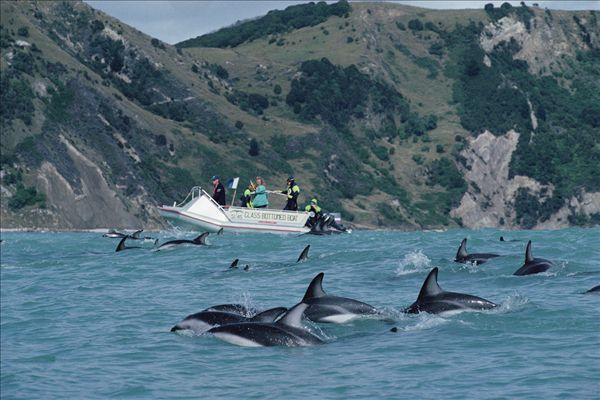fish: (201, 303, 338, 351), (399, 267, 515, 317), (289, 273, 392, 324), (504, 240, 561, 278), (451, 237, 505, 269)
